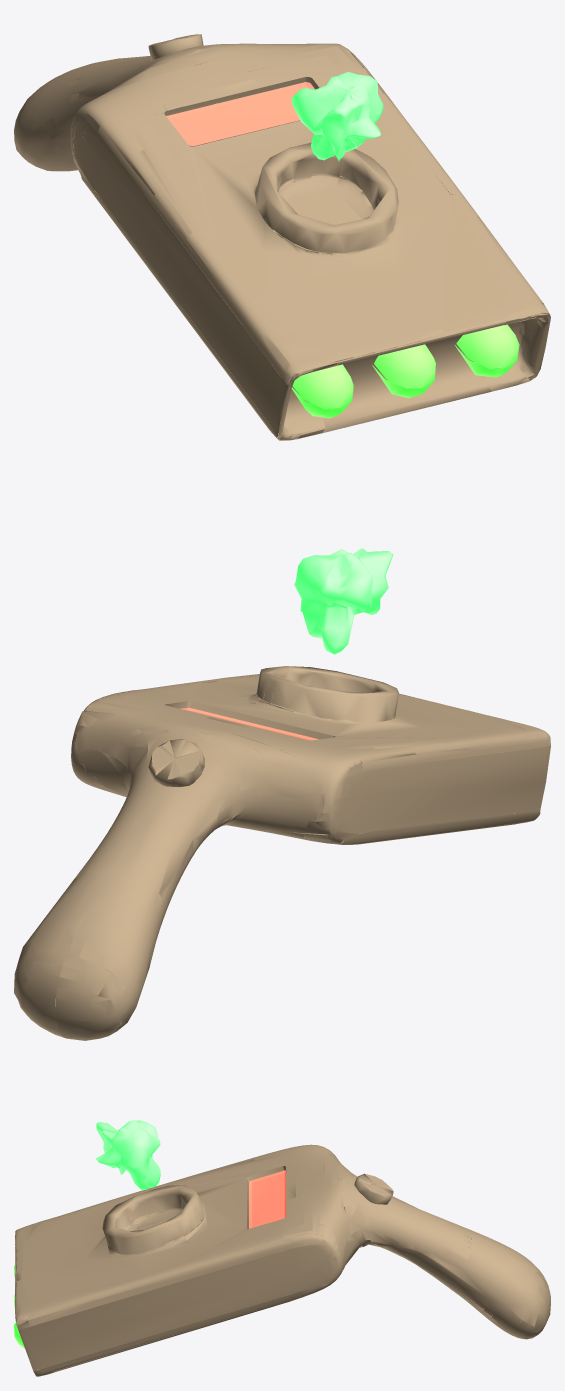
Rendered from portal_carton.glb.
3 views of the same model, one above another, from view 1: azimuth 30°, elevation 25°; view 2: azimuth 150°, elevation 25°; view 3: azimuth 270°, elevation 25° (orthographic). The views are drawn at different scales.
Visible parts, largest first — view 1: portal_carton; view 2: portal_carton; view 3: portal_carton.
Part boxes in pixels (x1=…): portal_carton: x1=14, y1=34, x2=550, y2=440; portal_carton: x1=14, y1=548, x2=550, y2=1040; portal_carton: x1=14, y1=1120, x2=550, y2=1376.
Size of the model in its own units: 0.134 by 0.1715 by 0.32.
